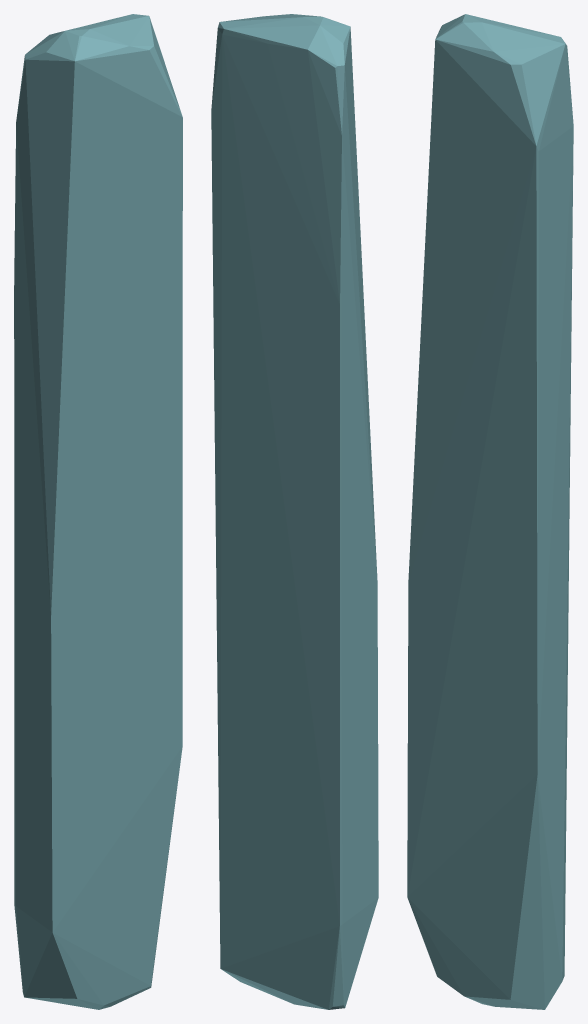
The model's file is pipe_plastic_gray_b06.glb.
3 renders of one model, left to right at view 1: azimuth 30°, elevation 25°; view 2: azimuth 150°, elevation 25°; view 3: azimuth 330°, elevation 25°, orthographic.
Visible parts, largest first — view 1: geometry_0; view 2: geometry_0; view 3: geometry_0.
Part boxes in pixels (x1=…): geometry_0: x1=14, y1=14, x2=182, y2=1009; geometry_0: x1=211, y1=14, x2=378, y2=1009; geometry_0: x1=407, y1=14, x2=573, y2=1009.
Size of the model in its own units: 0.067 by 0.4799 by 0.0346.
